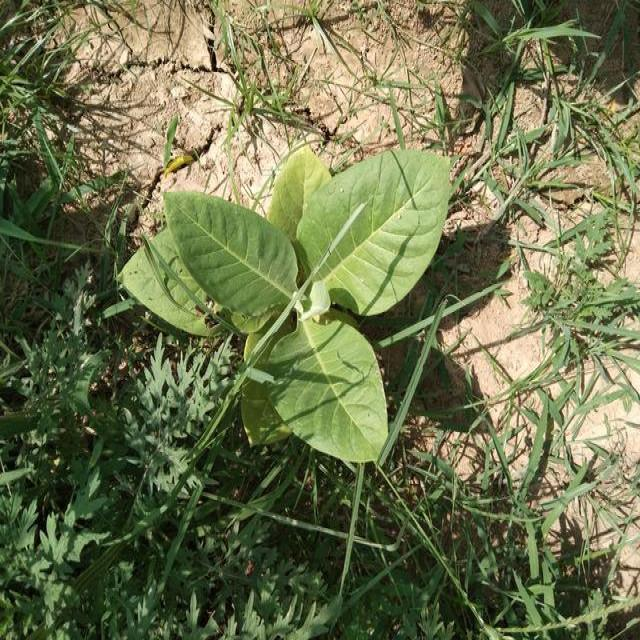crop: (116, 147, 431, 451)
